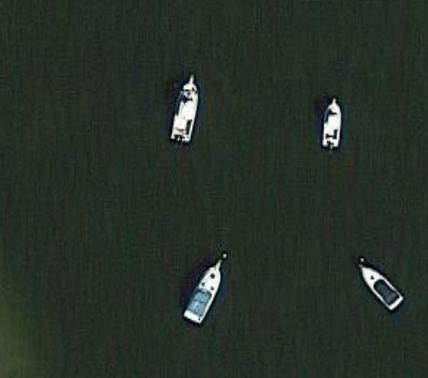Ships: (347, 251, 414, 322), (186, 246, 234, 339), (169, 74, 207, 165), (319, 92, 356, 165)
